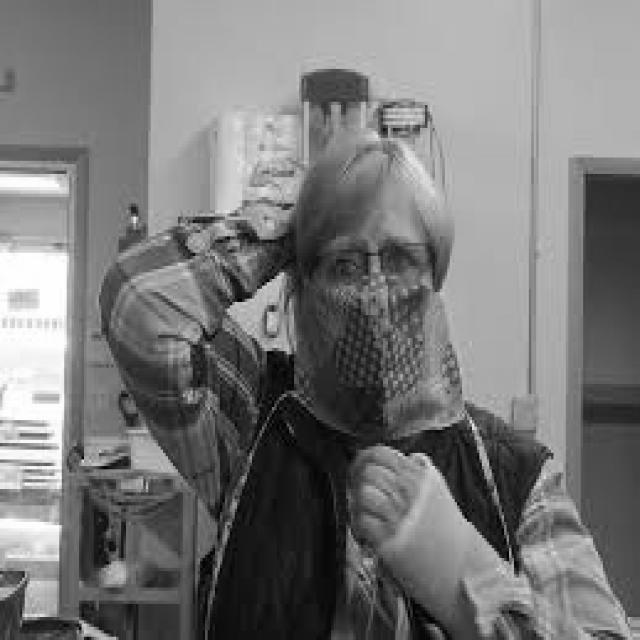with_mask: (289, 269, 465, 443)
